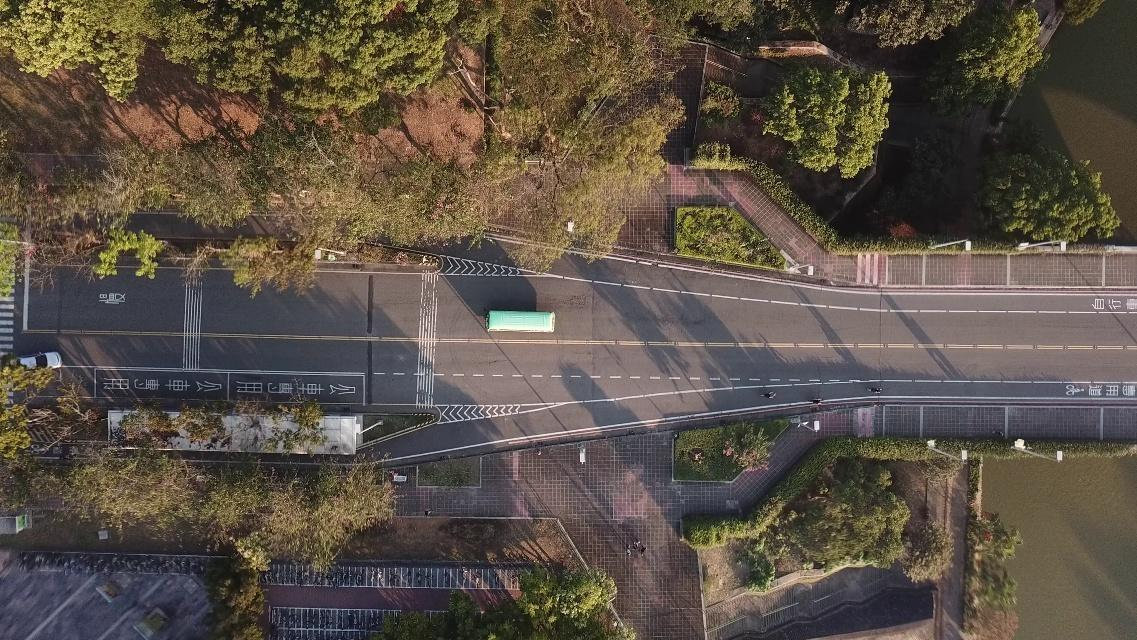Bus: (487, 311, 556, 333)
Car: (18, 351, 62, 369)
